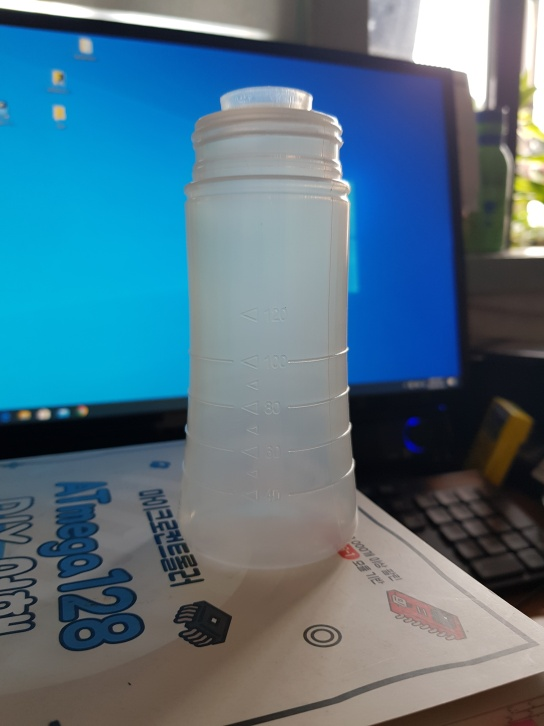Plastic: (176, 85, 360, 577)
